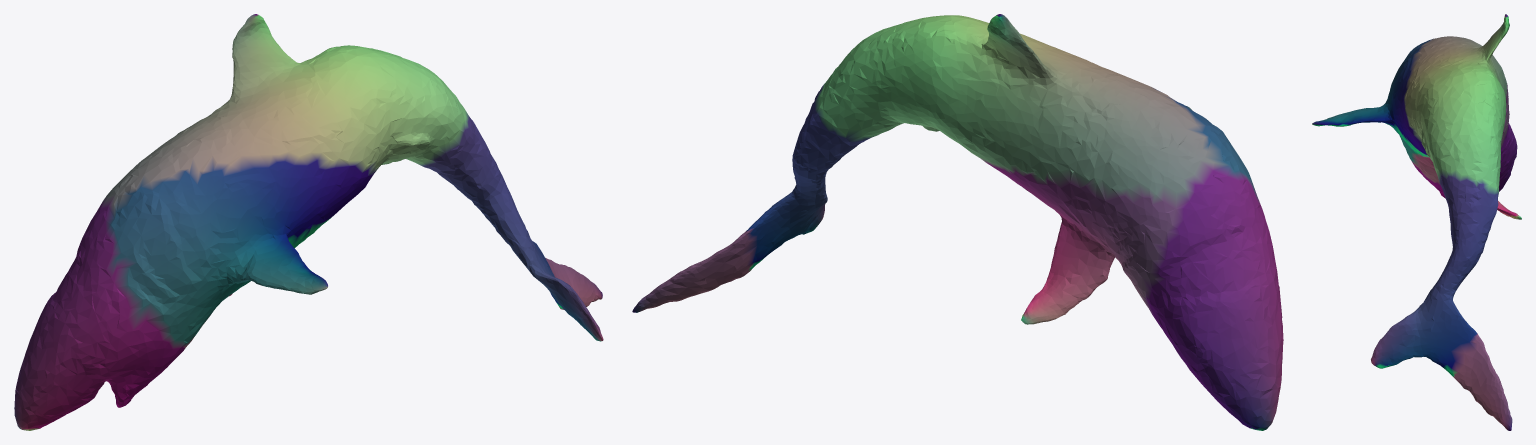
File: shark-13.off.obj
3 renders of one model, left to right at view 1: azimuth 30°, elevation 25°; view 2: azimuth 150°, elevation 25°; view 3: azimuth 270°, elevation 25°, orthographic. The views are drawn at different scales.
Bounding box in the file's own units: 1.28 × 0.7558 × 0.504.
